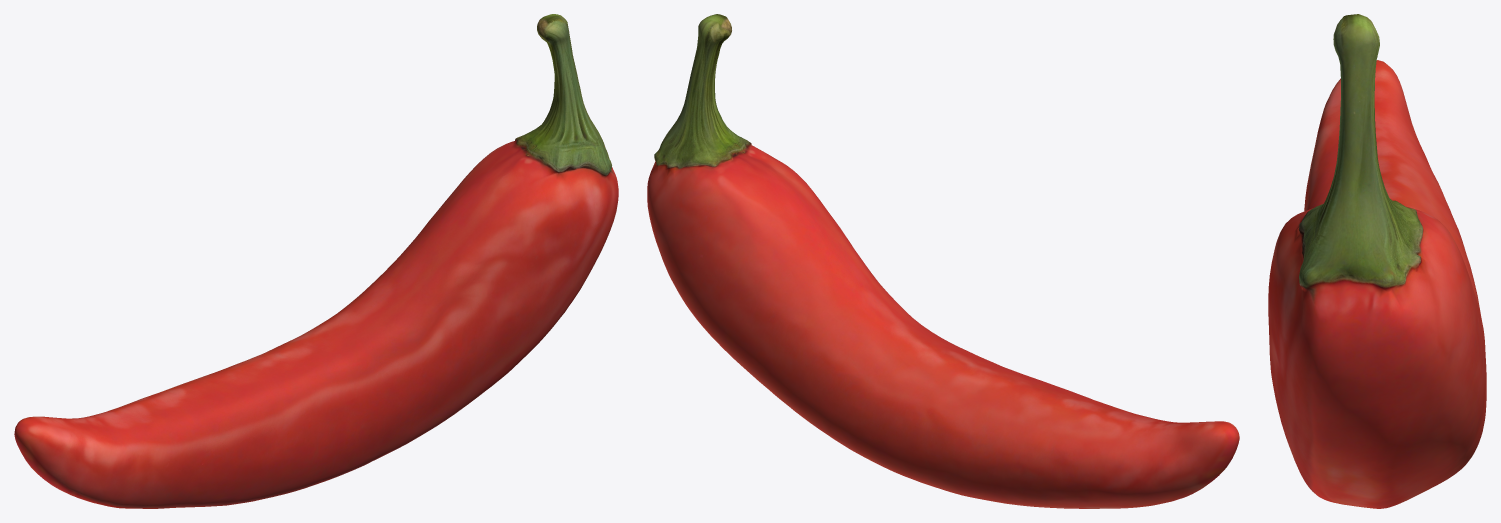
File: chili.glb
3 views of the same model, side by side, from view 1: azimuth 30°, elevation 25°; view 2: azimuth 150°, elevation 25°; view 3: azimuth 270°, elevation 25° (orthographic). The views are drawn at different scales.
Bounding box in the file's own units: 2 × 1.34 × 0.4153.
Materials: 1 (1 with a texture image).
